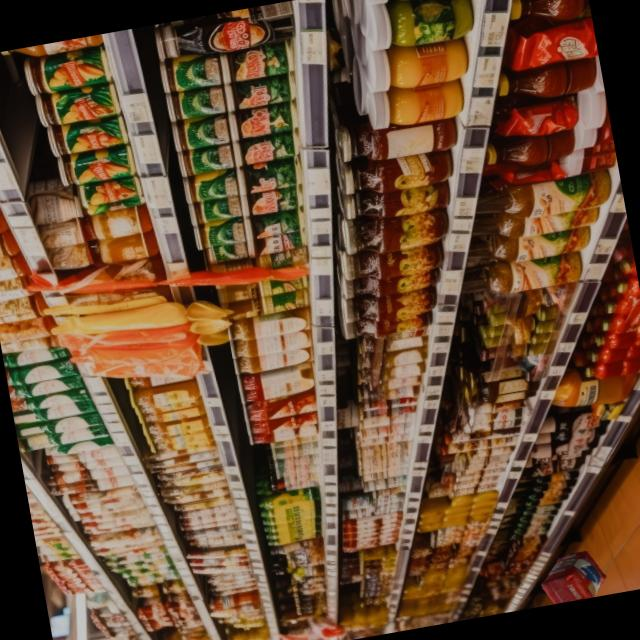mate bag: (531, 545, 609, 606)
